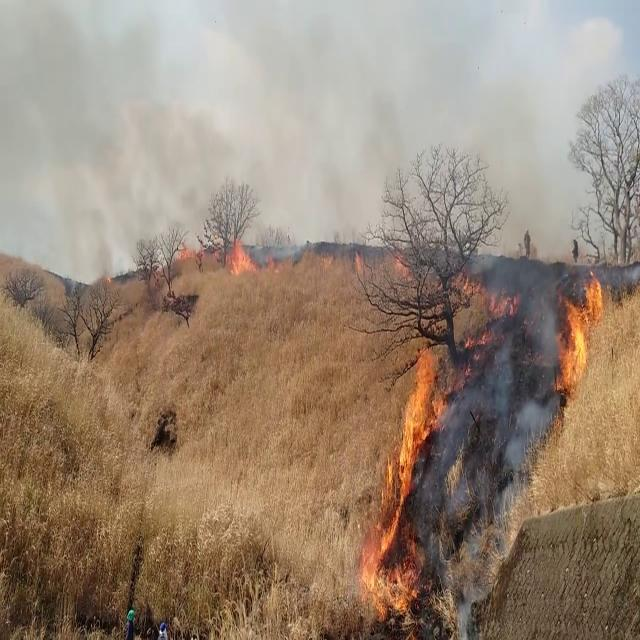Fire: (358, 342, 460, 618), (552, 268, 604, 391), (455, 262, 524, 328), (224, 234, 256, 276)
Smoke: (2, 4, 412, 266)
